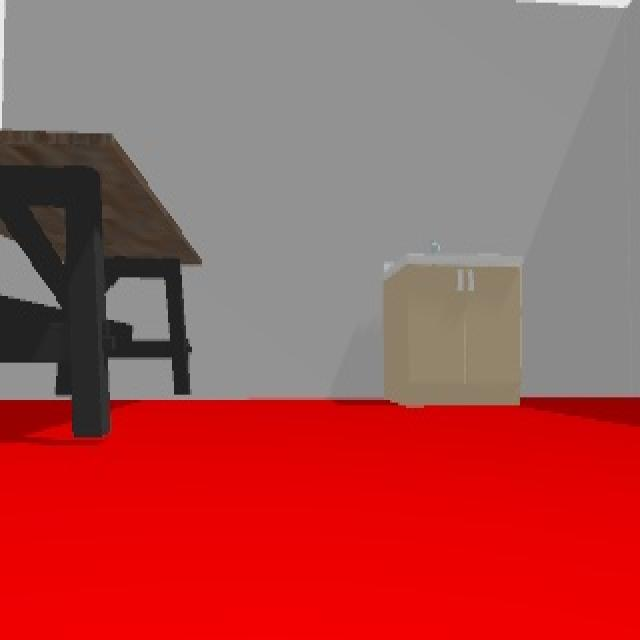dining: (0, 132, 193, 400)
